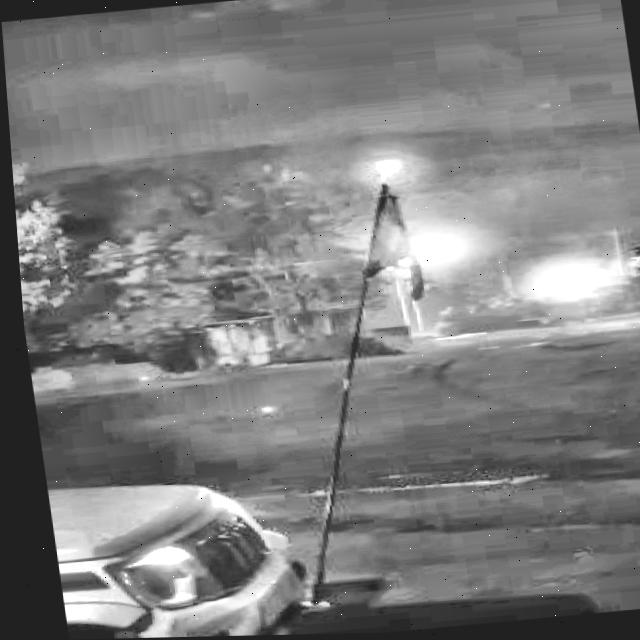light_vehicle: (22, 344, 291, 640)
